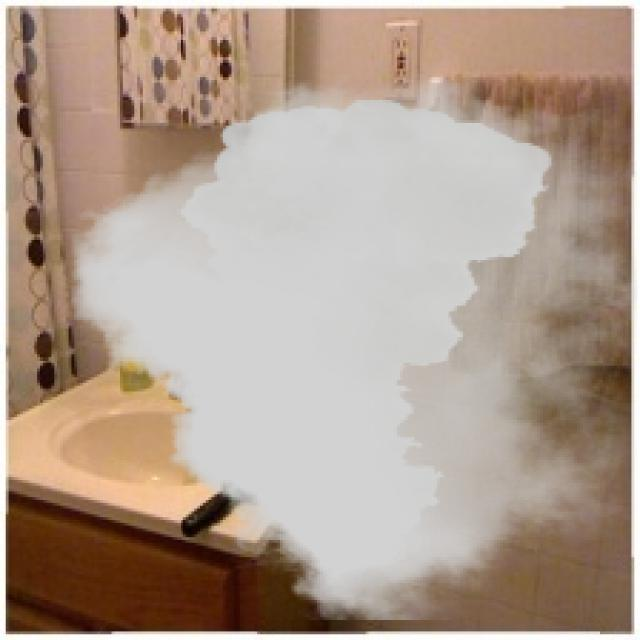Smoke: (72, 74, 638, 620)
